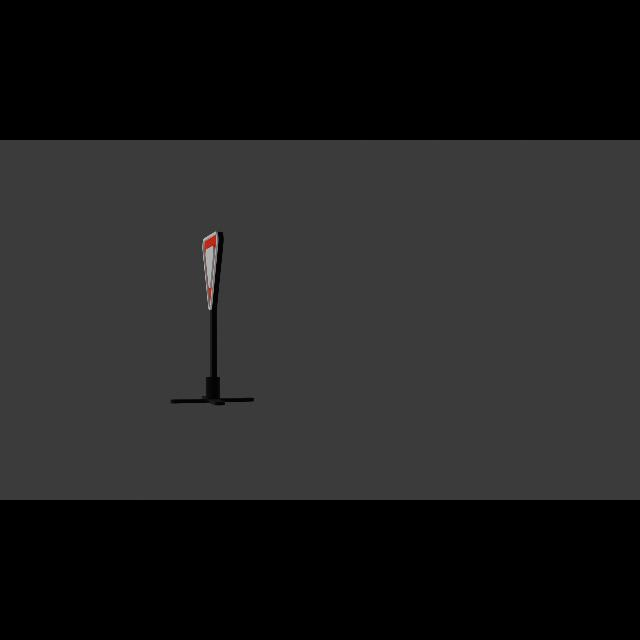sign_yield: (203, 232, 220, 311)
